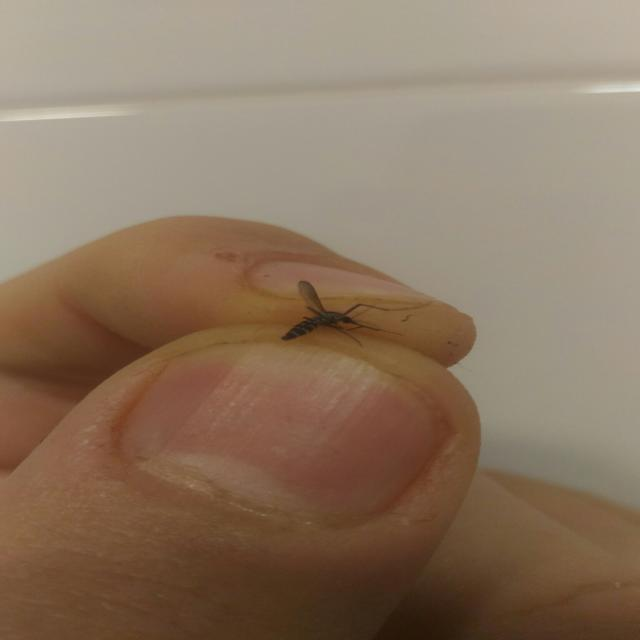albopictus: (274, 278, 412, 350)
